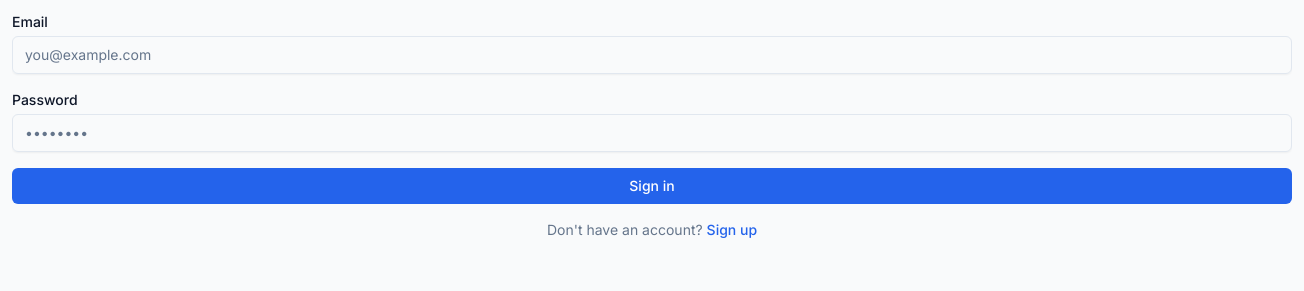
LoginForm › shows the API error message on failed login
Type "wrong@example.com" into the field labelled "Email".
click(652, 55); type("wrong@example.com")  # box [12,36,1292,74]
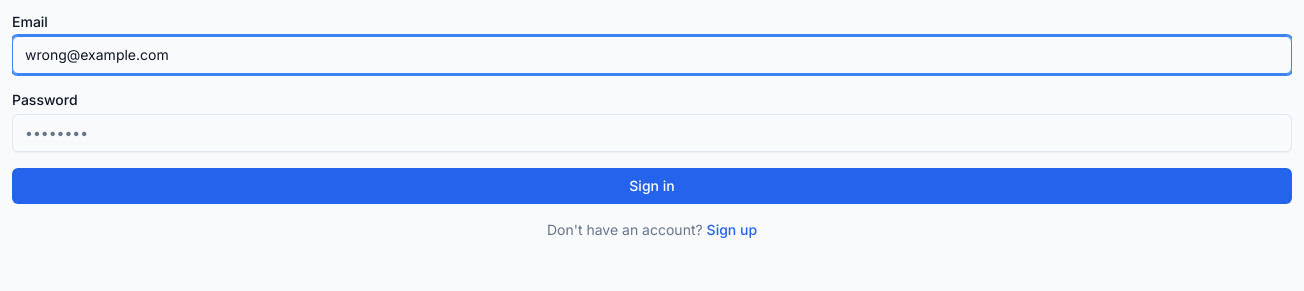
Type "badpass" into the password field labelled "Password".
click(652, 133); type("badpass")  # box [12,114,1292,152]
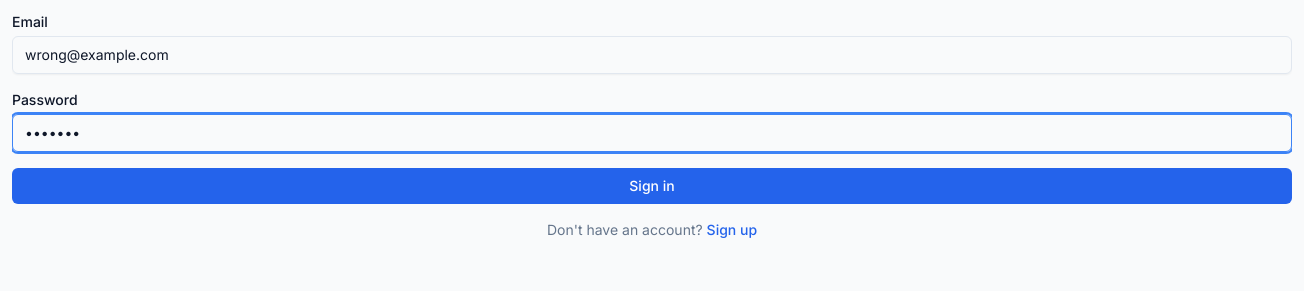
Click the button "Sign in".
click(652, 186)  # box [12,168,1292,204]
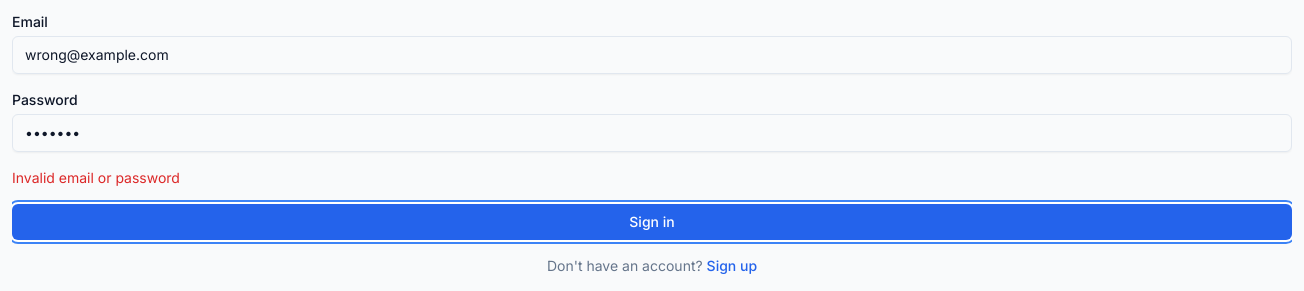
Result: the message reads "Invalid email or password" at [12,169,180,186]
